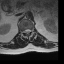CCS_normal: (26, 27, 28, 35)
LFS_normal: (30, 27, 32, 33)
LLS_normal: (28, 27, 30, 34)
RFS_normal: (22, 28, 24, 34)
RLS_normal: (24, 27, 26, 34)
